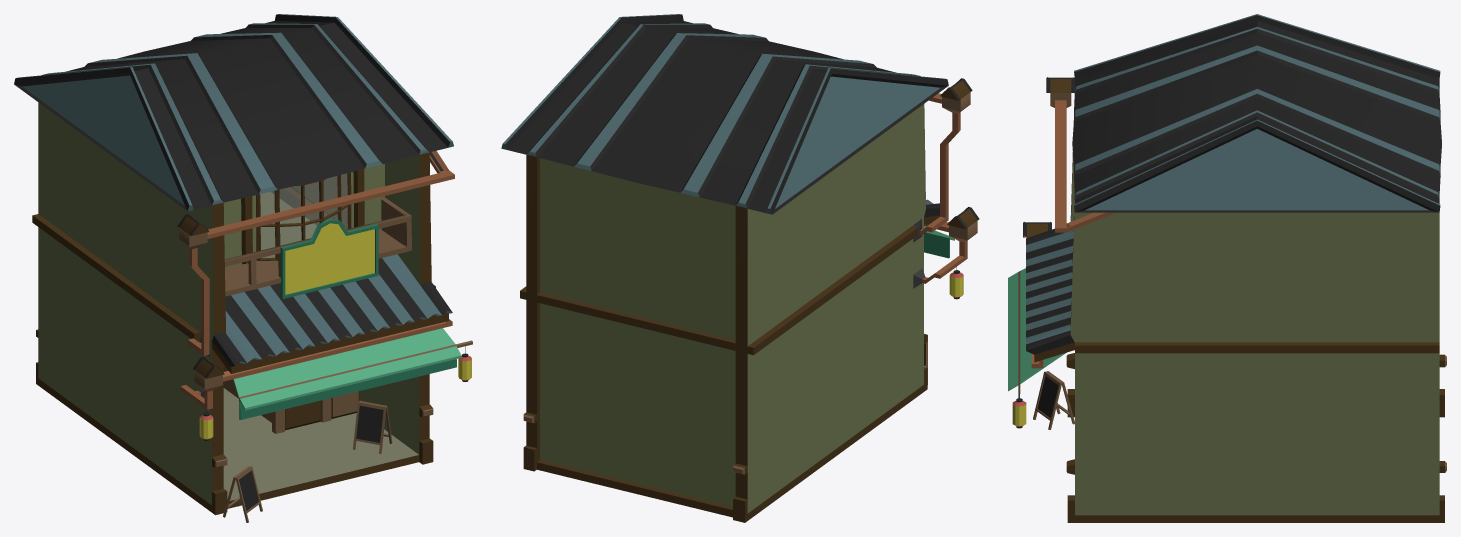
The model's file is Comercio_2.fbx.
3 renders of one model, left to right at view 1: azimuth 30°, elevation 25°; view 2: azimuth 150°, elevation 25°; view 3: azimuth 270°, elevation 25°, orthographic. The views are drawn at different scales.
Parts seen in each view (by area): view 1: polySurface7, polySurface1, polySurface8, polySurface12, polySurface17, polySurface4; view 2: polySurface7, polySurface1; view 3: polySurface7, polySurface1, polySurface4.
Boxes of the visible parts, <box> form: polySurface7: <box>14,14,472,515</box>; polySurface1: <box>178,150,454,409</box>; polySurface8: <box>280,219,378,298</box>; polySurface12: <box>272,391,359,433</box>; polySurface17: <box>353,401,392,453</box>; polySurface4: <box>223,466,262,522</box>; polySurface7: <box>501,14,954,522</box>; polySurface1: <box>913,78,979,288</box>; polySurface7: <box>1008,14,1446,522</box>; polySurface1: <box>1023,77,1115,368</box>; polySurface4: <box>1033,371,1074,429</box>.
Bounding box in the file's own units: 8.24 × 10.83 × 10.77.
